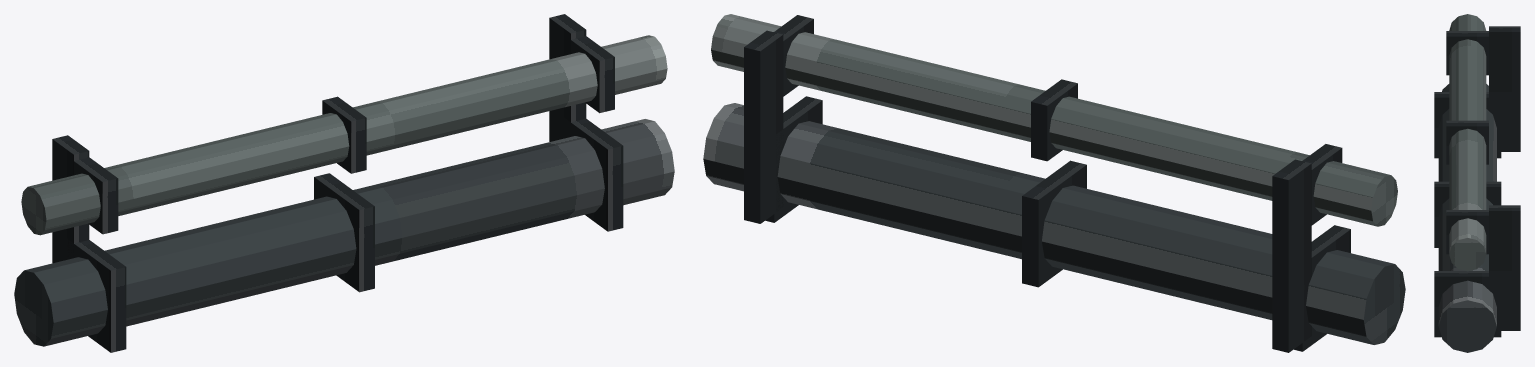
Rendered from sewer_pipe_run.glb.
3 views of the same model, side by side, from view 1: azimuth 30°, elevation 25°; view 2: azimuth 150°, elevation 25°; view 3: azimuth 270°, elevation 25° (orthographic). The views are drawn at different scales.
Parts seen in each view (by area): view 1: Main0, Main1, Collar01, Collar02, Collar00, Bracket0, Bracket1, Collar10, Collar11, Collar12; view 2: Main0, Main1, Bracket0, Bracket1, Collar01, Collar11, Collar02, Collar00, Collar10, Collar12; view 3: Main1, Main0, Bracket1, Bracket0, Collar02, Collar00, Collar01, Collar11, Collar12, Collar10.
Part boxes in pixels (x1,y1,x2,y2): Main0: [14, 119, 674, 346]; Main1: [21, 35, 667, 235]; Collar01: [314, 173, 374, 292]; Collar02: [562, 117, 623, 231]; Collar00: [65, 239, 126, 352]; Bracket0: [52, 135, 89, 263]; Bracket1: [549, 14, 586, 141]; Collar10: [74, 157, 118, 234]; Collar11: [322, 96, 366, 173]; Collar12: [570, 36, 614, 113]; Main0: [703, 103, 1405, 344]; Main1: [711, 14, 1397, 226]; Bracket0: [1272, 159, 1311, 352]; Bracket1: [744, 30, 783, 223]; Collar01: [1022, 160, 1086, 287]; Collar11: [1031, 79, 1077, 161]; Collar02: [765, 96, 822, 222]; Collar00: [1294, 225, 1350, 351]; Collar10: [1302, 144, 1342, 225]; Collar12: [774, 15, 813, 96]; Main1: [1449, 14, 1486, 271]; Main0: [1438, 84, 1496, 352]; Bracket1: [1489, 205, 1520, 330]; Bracket0: [1489, 26, 1520, 151]; Collar02: [1434, 271, 1501, 337]; Collar00: [1434, 92, 1501, 158]; Collar01: [1434, 181, 1501, 247]; Collar11: [1446, 120, 1488, 164]; Collar12: [1446, 210, 1488, 254]; Collar10: [1446, 31, 1488, 75].
Bounding box in the file's own units: 2 × 0.5265 × 0.3265.
2 materials, 2 textured.
